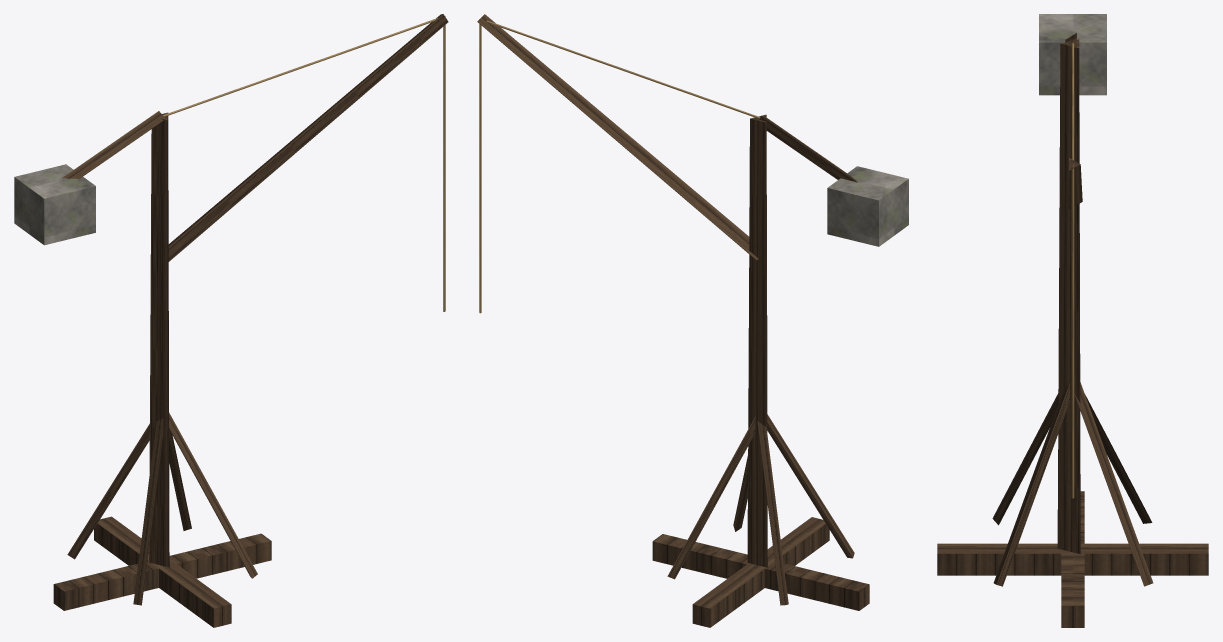
Rendered from Crane_Wood_1_LOD2.gltf.
3 renders of one model, left to right at view 1: azimuth 30°, elevation 25°; view 2: azimuth 150°, elevation 25°; view 3: azimuth 270°, elevation 25°, orthographic. The views are drawn at different scales.
Visible parts, largest first — view 1: Crane_Wood_1_LOD2; view 2: Crane_Wood_1_LOD2; view 3: Crane_Wood_1_LOD2.
Part boxes in pixels (x1=…): Crane_Wood_1_LOD2: x1=14, y1=14, x2=448, y2=627; Crane_Wood_1_LOD2: x1=477, y1=14, x2=908, y2=627; Crane_Wood_1_LOD2: x1=937, y1=14, x2=1208, y2=627.
Size of the model in its own units: 5.63 by 6.46 by 2.8.
Materials: 3 (3 with a texture image).
